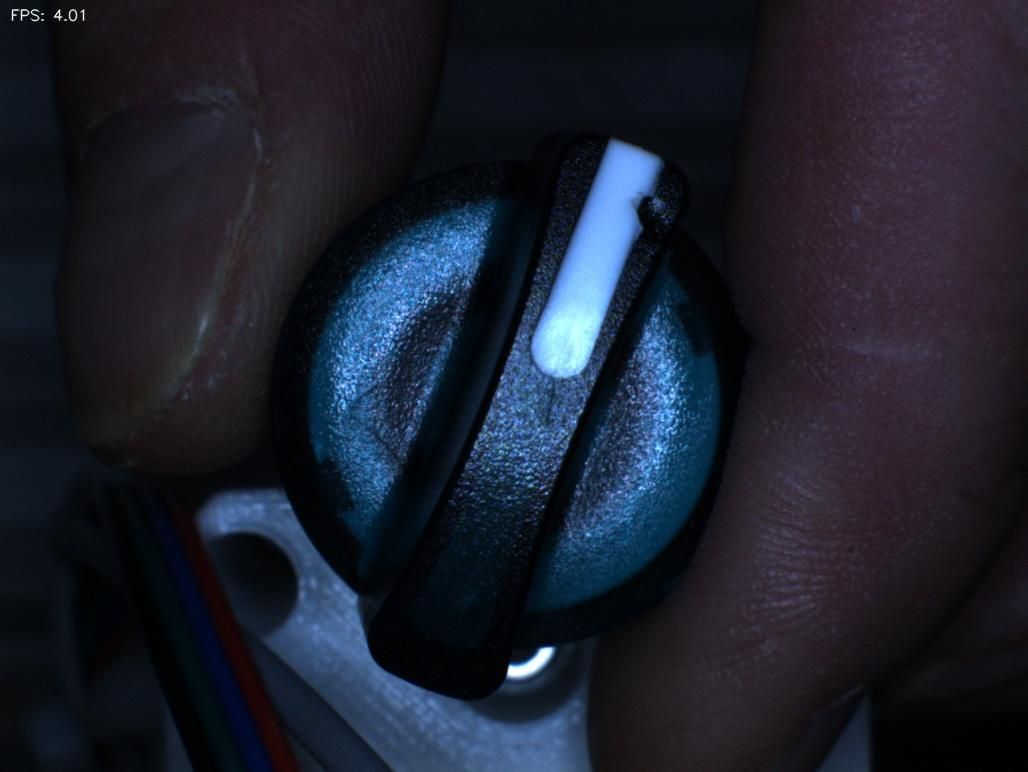Choc: (603, 164, 700, 265)
